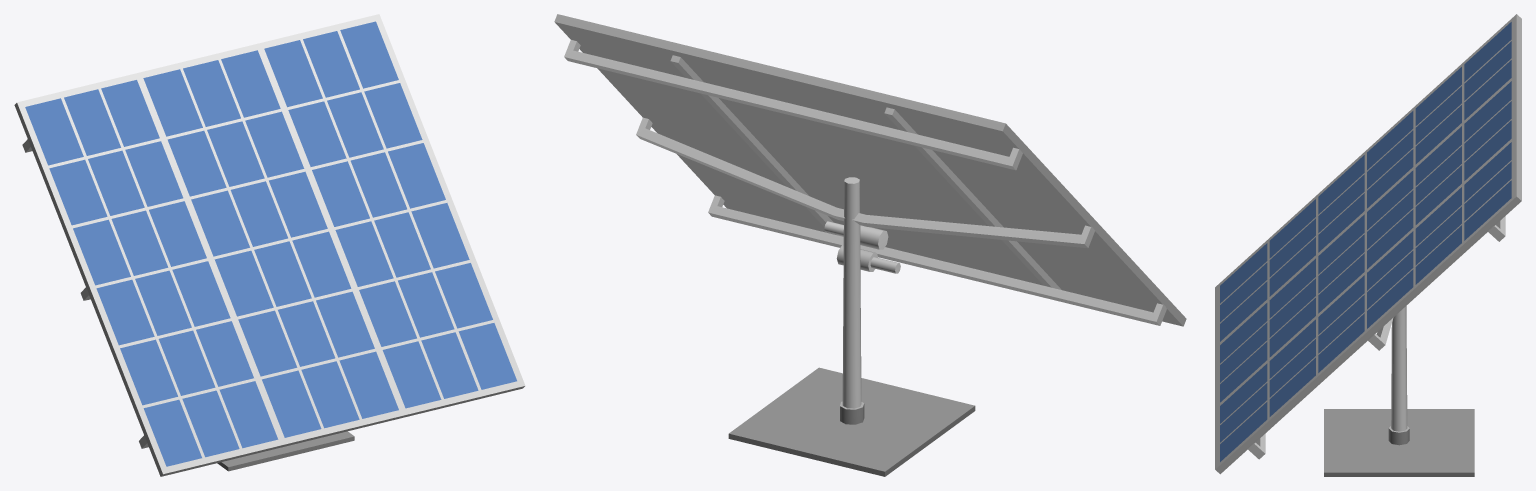
Rendered from panel.obj.
3 views of the same model, side by side, from view 1: azimuth 30°, elevation 25°; view 2: azimuth 150°, elevation 25°; view 3: azimuth 270°, elevation 25° (orthographic). The views are drawn at different scales.
Visible parts, largest first — view 1: Plane_003, Cylinder; view 2: Plane_003, Cylinder; view 3: Plane_003, Cylinder.
Part boxes in pixels (x1=…): Plane_003: x1=14, y1=14, x2=525, y2=476; Cylinder: x1=217, y1=431, x2=354, y2=471; Plane_003: x1=554, y1=14, x2=1186, y2=326; Cylinder: x1=728, y1=177, x2=975, y2=476; Plane_003: x1=1215, y1=14, x2=1521, y2=474; Cylinder: x1=1324, y1=306, x2=1474, y2=476.
Bounding box in the file's own units: 10.6 × 9.21 × 7.53.
